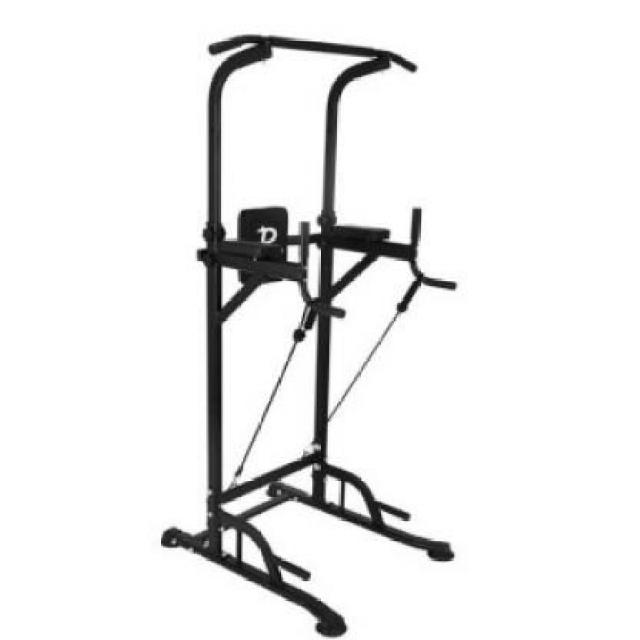chinning dipping: (161, 34, 457, 637)
